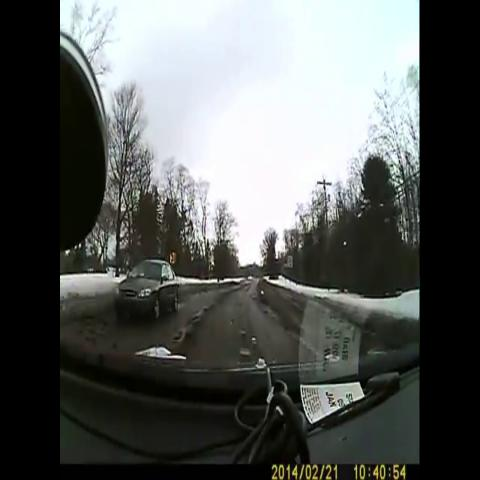pothole: (168, 294, 215, 350), (229, 320, 261, 357)
